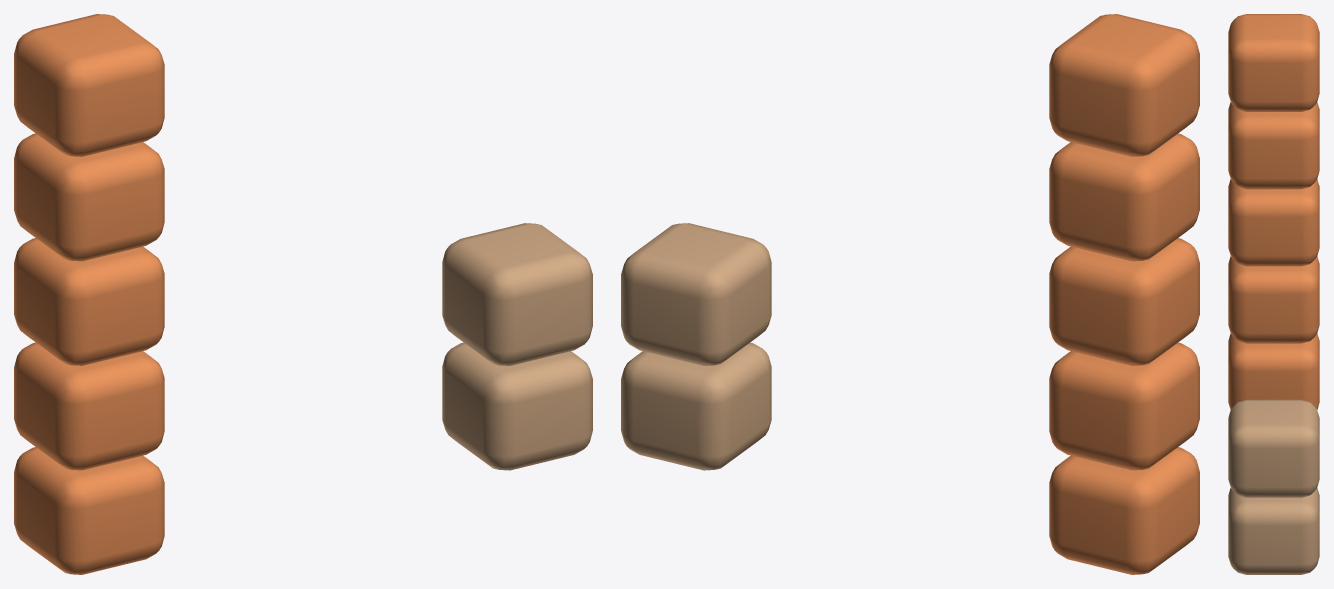
File: ava-opposite-tall.glb
The picture shows the model from 3 angles, left to right: view 1: azimuth 30°, elevation 25°; view 2: azimuth 150°, elevation 25°; view 3: azimuth 270°, elevation 25°; orthographic projection. The views are drawn at different scales.
Visible parts, largest first — view 1: tower block.004, tower block.006, tower block.005, tower block, tower block.001, tower block.002, tower block.003; view 2: tower block.004, tower block.006, tower block.005, tower block, tower block.001, tower block.002, tower block.003; view 3: tower block.006, tower block.004, tower block.005, tower block.001, tower block.003, tower block.002, tower block.
Part boxes in pixels (x1=…): tower block.004: x1=14, y1=14, x2=164, y2=156; tower block.006: x1=442, y1=223, x2=592, y2=365; tower block.005: x1=442, y1=342, x2=592, y2=470; tower block: x1=14, y1=447, x2=164, y2=574; tower block.001: x1=14, y1=342, x2=164, y2=470; tower block.002: x1=14, y1=238, x2=164, y2=365; tower block.003: x1=14, y1=133, x2=164, y2=261; tower block.004: x1=1049, y1=14, x2=1199, y2=156; tower block.006: x1=621, y1=223, x2=771, y2=365; tower block.005: x1=621, y1=342, x2=771, y2=470; tower block: x1=1049, y1=447, x2=1199, y2=574; tower block.001: x1=1049, y1=342, x2=1199, y2=470; tower block.002: x1=1049, y1=238, x2=1199, y2=365; tower block.003: x1=1049, y1=133, x2=1199, y2=261; tower block.006: x1=1228, y1=399, x2=1319, y2=497; tower block.004: x1=1228, y1=14, x2=1319, y2=111; tower block.005: x1=1228, y1=488, x2=1319, y2=574; tower block.001: x1=1228, y1=256, x2=1319, y2=343; tower block.003: x1=1228, y1=102, x2=1319, y2=189; tower block.002: x1=1228, y1=179, x2=1319, y2=266; tower block: x1=1228, y1=333, x2=1319, y2=409.
Size of the model in its own units: 1.5 by 1.38 by 0.3.
